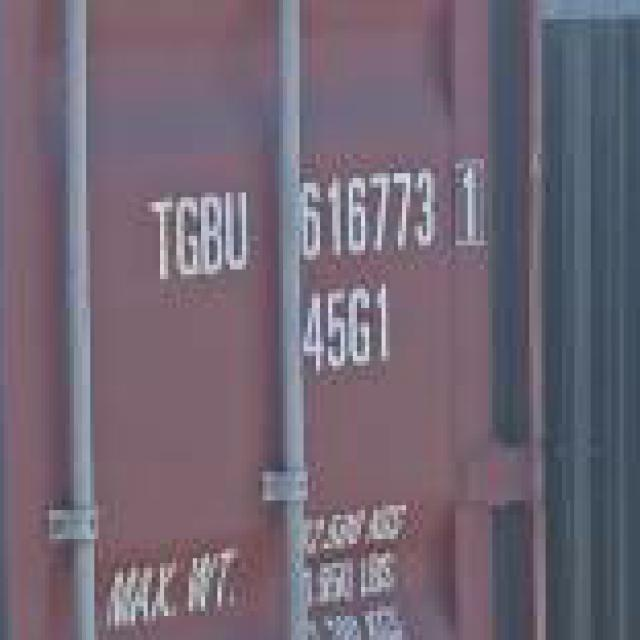dv: (443, 146, 496, 264)
owner: (120, 162, 264, 301)
serial: (292, 155, 436, 268)
size: (287, 276, 398, 382)
